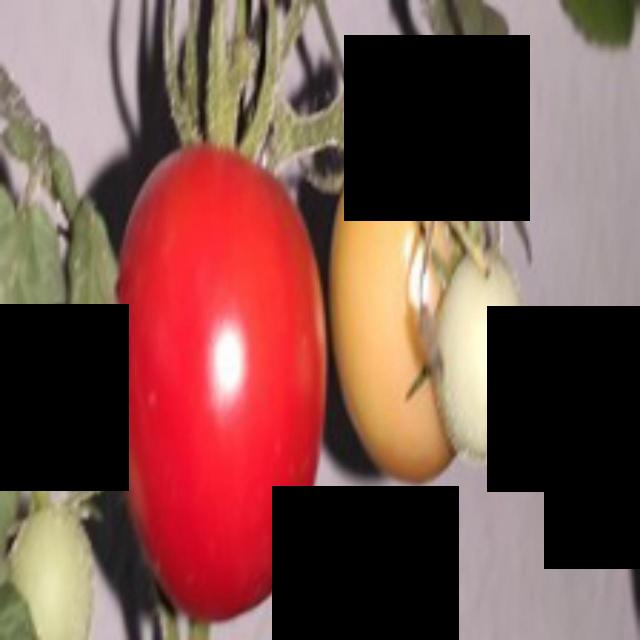tomato: (117, 128, 321, 616)
